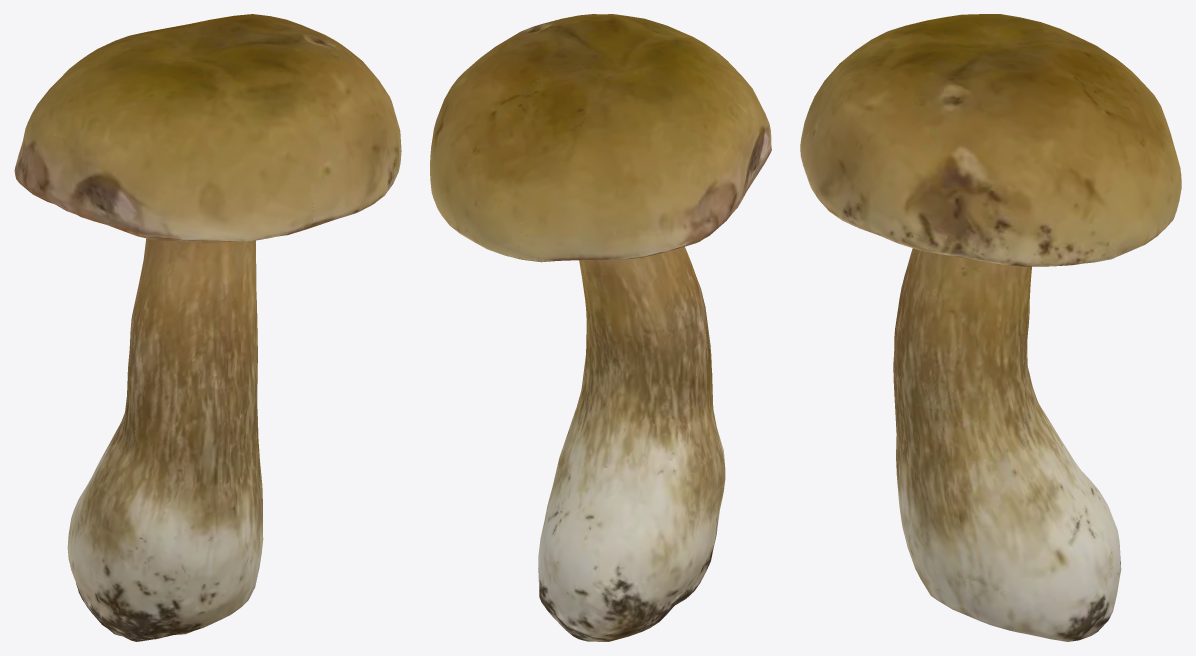
File: veg_boletus_edulis_mushroom.glb
3 renders of one model, left to right at view 1: azimuth 30°, elevation 25°; view 2: azimuth 150°, elevation 25°; view 3: azimuth 270°, elevation 25°, orthographic. The views are drawn at different scales.
Visible parts, largest first — view 1: Object_2; view 2: Object_2; view 3: Object_2.
Part boxes in pixels (x1,y1,x2,y2): Object_2: [14, 14, 401, 641]; Object_2: [430, 14, 771, 641]; Object_2: [800, 14, 1181, 641].
Bounding box in the file's own units: 0.078 × 0.14 × 0.0801.
1 material, 1 textured.
